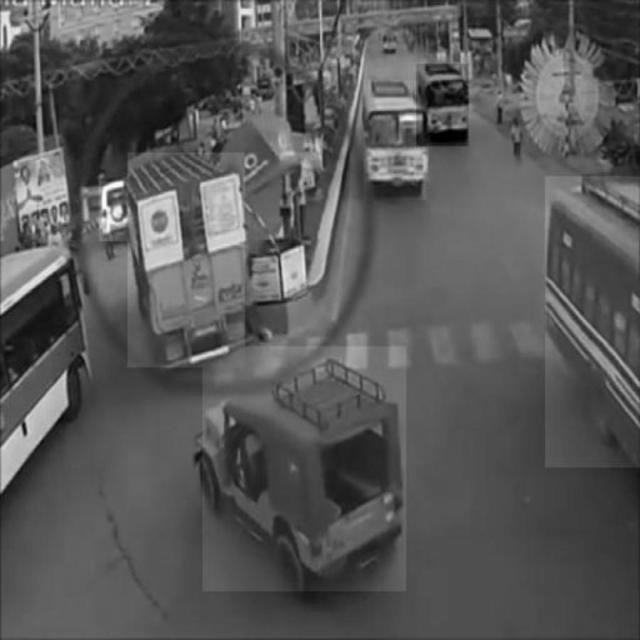vehicle: (203, 347, 407, 591), (545, 177, 639, 468), (128, 153, 246, 368), (365, 80, 427, 200), (417, 64, 469, 146), (99, 181, 129, 241)
